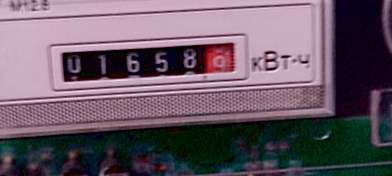0: (66, 51, 85, 73)
1: (96, 50, 112, 75)
5: (154, 47, 172, 72)
6: (125, 48, 145, 74)
8: (182, 45, 201, 68)
9: (212, 51, 229, 73)
screen: (46, 24, 256, 97)
